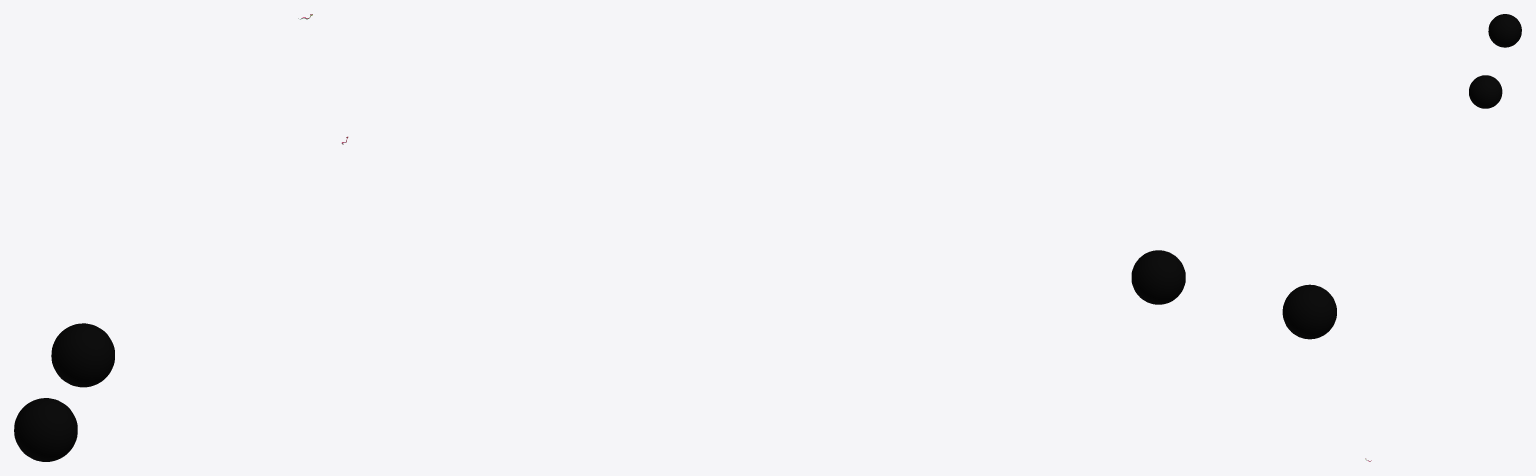
3 renders of one model, left to right at view 1: azimuth 90°, elevation 25°; view 2: azimuth 150°, elevation 25°; view 3: azimuth 270°, elevation 25°, orthographic. The views are drawn at different scales.
Visible parts, largest first — view 1: Sphere1, Sphere; view 2: Sphere1, Sphere; view 3: Sphere1, Sphere.
Part boxes in pixels (x1,y1,x2,y2): Sphere1: (51,323,114,387); Sphere: (14,398,77,461); Sphere1: (1131,250,1185,304); Sphere: (1282,284,1336,339); Sphere1: (1469,75,1502,108); Sphere: (1488,14,1521,47).
Bounding box in the file's own units: 209 × 36.22 × 41.92.
Materials: 7 (2 with a texture image).
